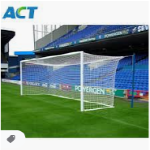goals: (20, 50, 115, 111)
